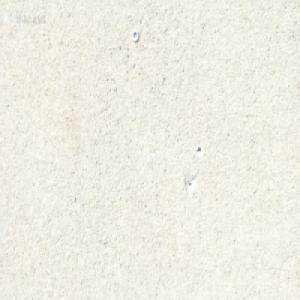Washer: (131, 28, 139, 41)
